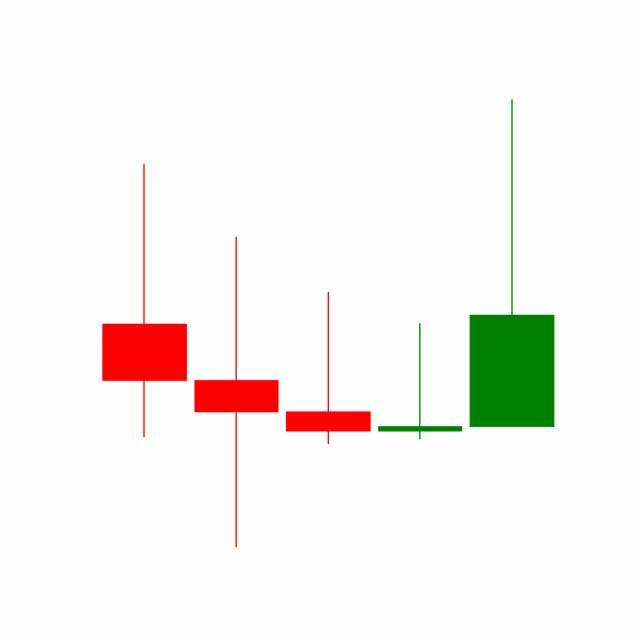Spinning Top: (374, 322, 468, 441)
